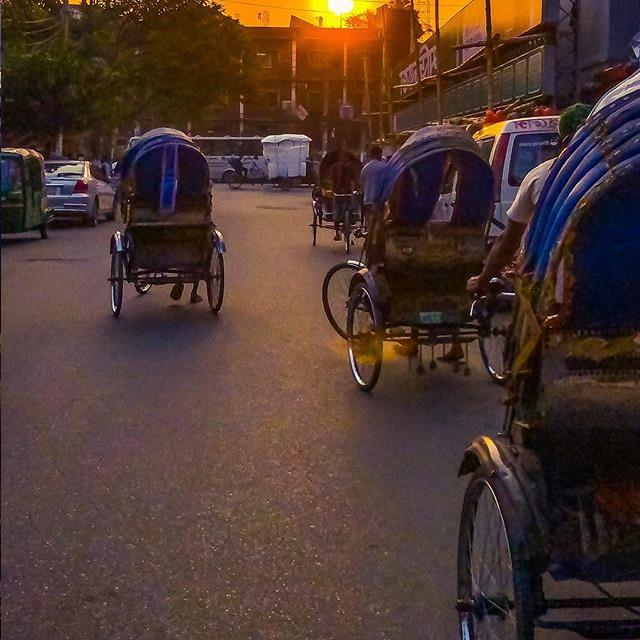Rickshaw: (493, 54, 635, 550), (334, 115, 498, 391), (104, 113, 239, 347), (302, 136, 373, 249)
